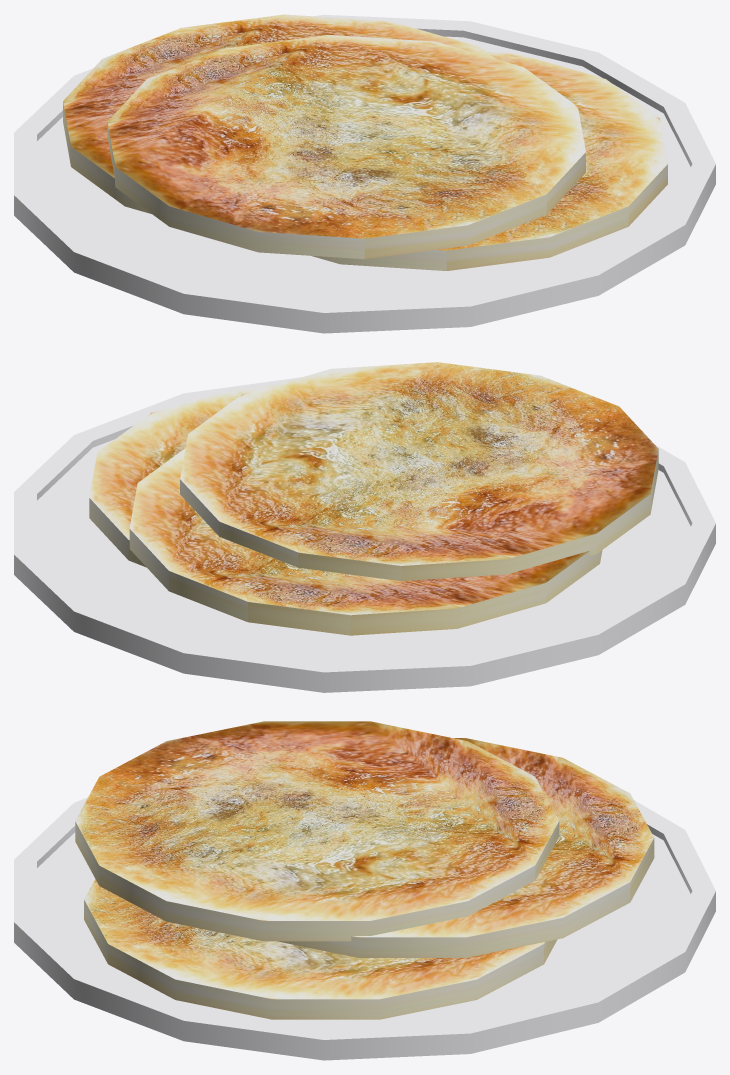
Rendered from Hotteok.fbx.
3 renders of one model, top to bottom at view 1: azimuth 30°, elevation 25°; view 2: azimuth 150°, elevation 25°; view 3: azimuth 270°, elevation 25°, orthographic.
Parts seen in each view (by area): view 1: Hotteok, Dish, Hotteok.002, Hotteok.001; view 2: Hotteok, Dish, Hotteok.001, Hotteok.002; view 3: Hotteok, Dish, Hotteok.002, Hotteok.001.
Part boxes in pixels (bbox=[...]): Hotteok: bbox=[107, 35, 585, 259]; Dish: bbox=[14, 14, 715, 333]; Hotteok.002: bbox=[312, 51, 667, 270]; Hotteok.001: bbox=[63, 14, 495, 213]; Hotteok: bbox=[180, 362, 658, 581]; Dish: bbox=[14, 377, 715, 692]; Hotteok.001: bbox=[129, 448, 602, 635]; Hotteok.002: bbox=[89, 385, 273, 567]; Hotteok: bbox=[75, 721, 559, 941]; Dish: bbox=[14, 797, 715, 1060]; Hotteok.002: bbox=[84, 879, 557, 1019]; Hotteok.001: bbox=[278, 738, 654, 957].
Bounding box in the file's own units: 198 × 24.9 × 197.
Materials: 2 (1 with a texture image).
